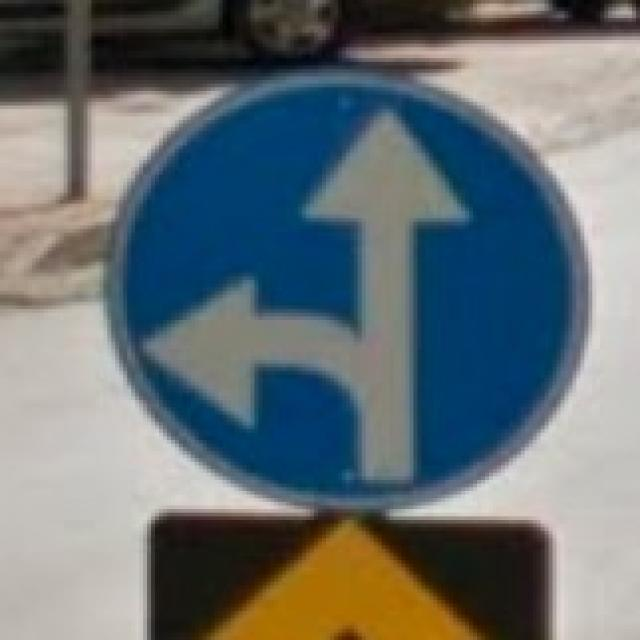Straight or Left: (109, 75, 594, 512)
